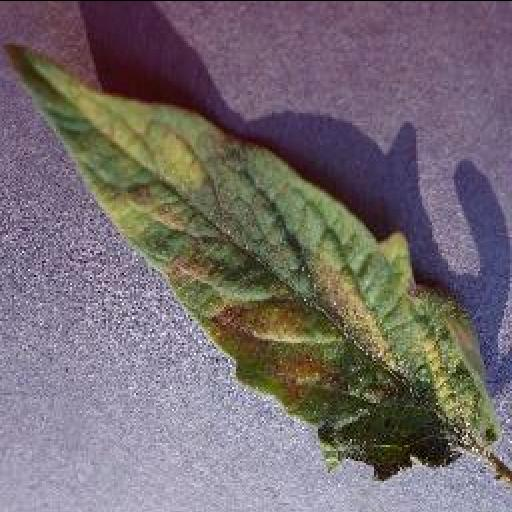disease_tomato: (0, 37, 500, 482)
